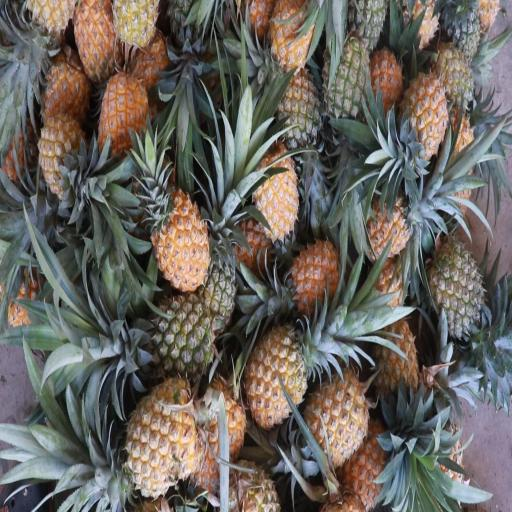------------------------------: (271, 42, 327, 145), (427, 34, 482, 122)
Pineapple - v8 v1: (119, 365, 204, 497), (188, 349, 248, 490), (300, 361, 372, 476), (242, 322, 313, 438), (151, 183, 216, 297), (248, 124, 304, 239), (284, 226, 344, 331), (93, 63, 149, 175), (365, 306, 422, 408), (396, 62, 450, 166), (360, 182, 418, 274), (38, 114, 92, 212), (215, 446, 290, 512), (262, 0, 317, 81), (72, 0, 116, 77)
